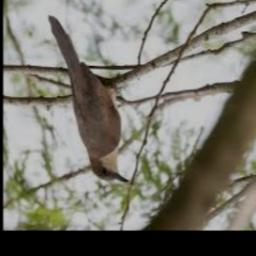Cuckoo: (48, 16, 129, 183)
